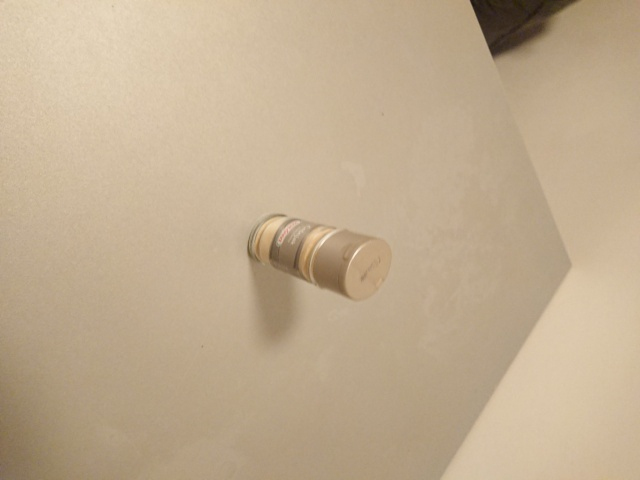Kotanyi Garlic Granules 70g: (245, 210, 395, 304)
